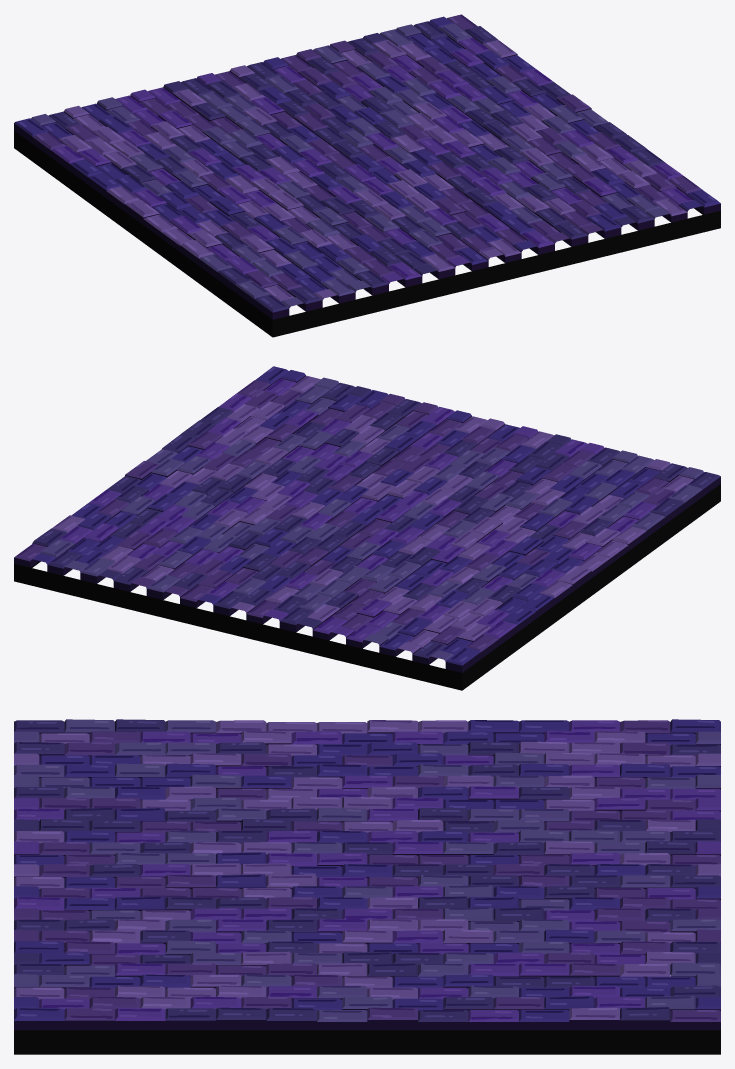
The model's file is FloorTiles.fbx.
The picture shows the model from 3 angles, top to bottom: view 1: azimuth 30°, elevation 25°; view 2: azimuth 150°, elevation 25°; view 3: azimuth 270°, elevation 25°; orthographic projection. The views are drawn at different scales.
Visible parts, largest first — view 1: FloorTiles; view 2: FloorTiles; view 3: FloorTiles.
Boxes of the visible parts, <box> form: FloorTiles: <box>14,14,720,337</box>; FloorTiles: <box>14,366,720,690</box>; FloorTiles: <box>14,719,720,1054</box>.
Size of the model in its own units: 12 by 0.6951 by 12.
